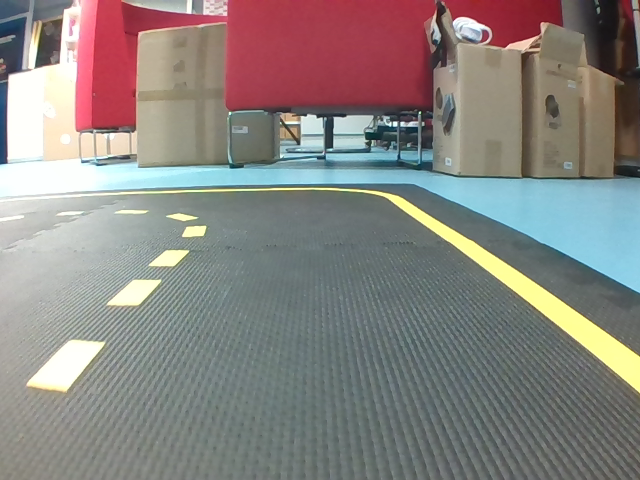stop: (395, 36, 477, 134)
